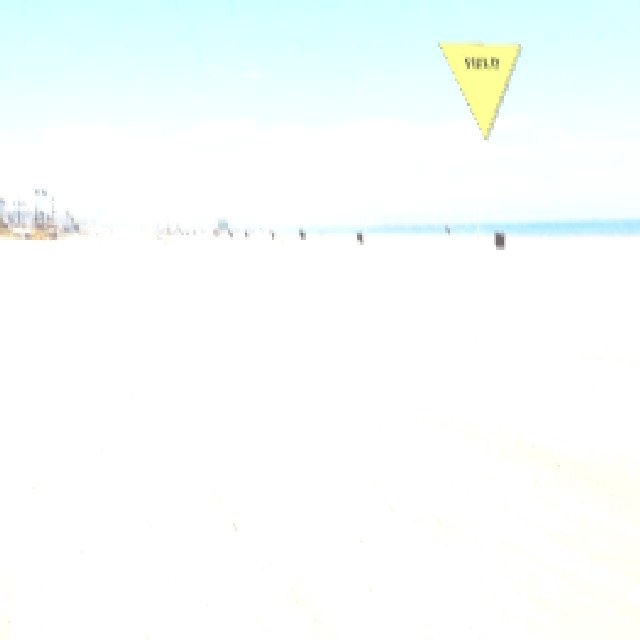YIELD: (438, 42, 522, 141)
